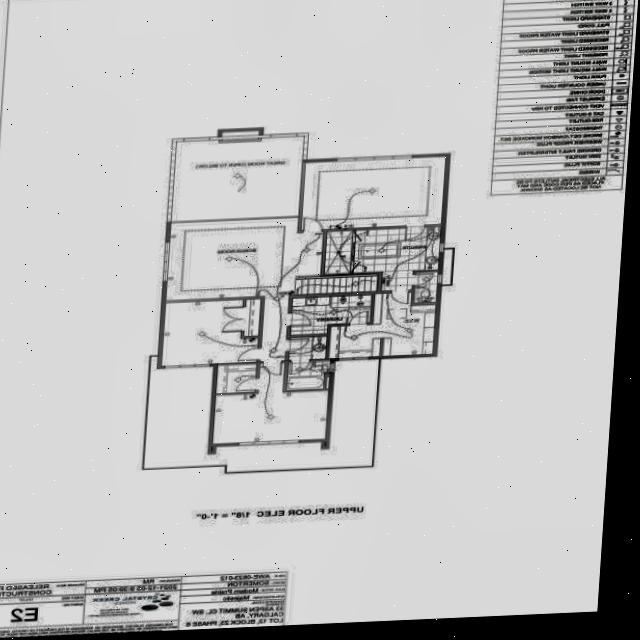room: (298, 156, 449, 231), (209, 361, 331, 444), (326, 291, 438, 358), (159, 299, 260, 366), (352, 226, 444, 292), (288, 295, 374, 336), (285, 360, 332, 390), (324, 228, 353, 276), (215, 364, 258, 393), (287, 336, 328, 360), (414, 270, 438, 304), (244, 298, 261, 337)
